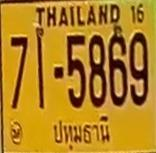1: (38, 37, 44, 110)
5: (68, 36, 85, 107)
6: (109, 35, 127, 107)
7: (10, 36, 29, 110)
8: (90, 34, 106, 107)
9: (130, 32, 148, 106)
PTE: (46, 113, 111, 149)
